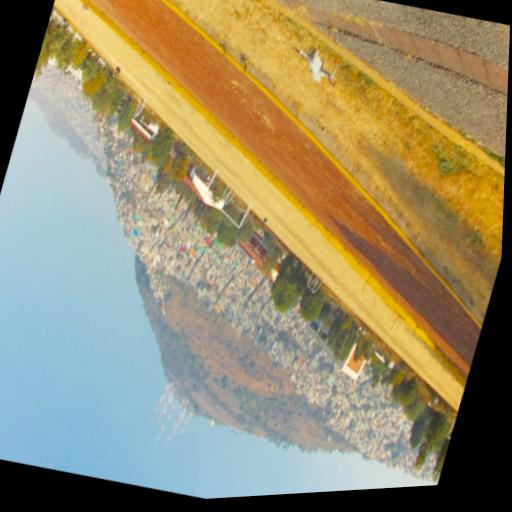drones: (282, 35, 347, 95)
